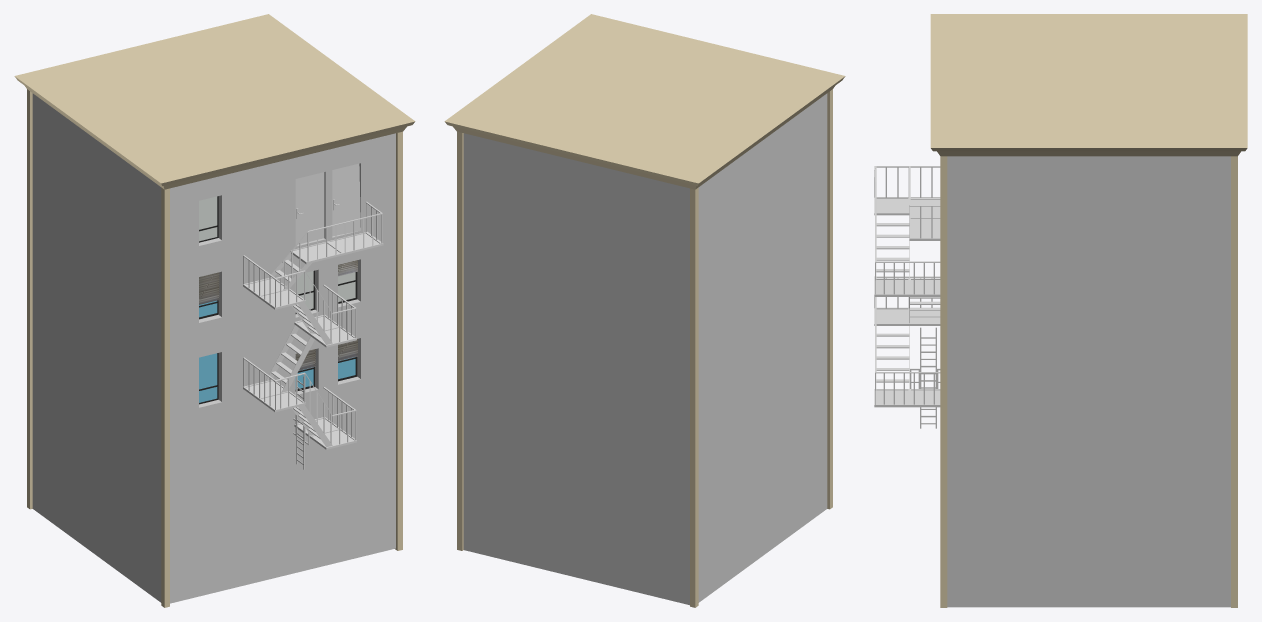
The model's file is Bloc_04F.fbx.
3 views of the same model, side by side, from view 1: azimuth 30°, elevation 25°; view 2: azimuth 150°, elevation 25°; view 3: azimuth 270°, elevation 25° (orthographic). The views are drawn at different scales.
Visible parts, largest first — view 1: Bloc_04F; view 2: Bloc_04F; view 3: Bloc_04F.
Boxes of the visible parts, box(x1,y1,x2,y2) form: Bloc_04F: box(14, 14, 415, 607); Bloc_04F: box(444, 14, 845, 607); Bloc_04F: box(874, 14, 1247, 607).
Size of the model in its own units: 1147 by 1573 by 974.
